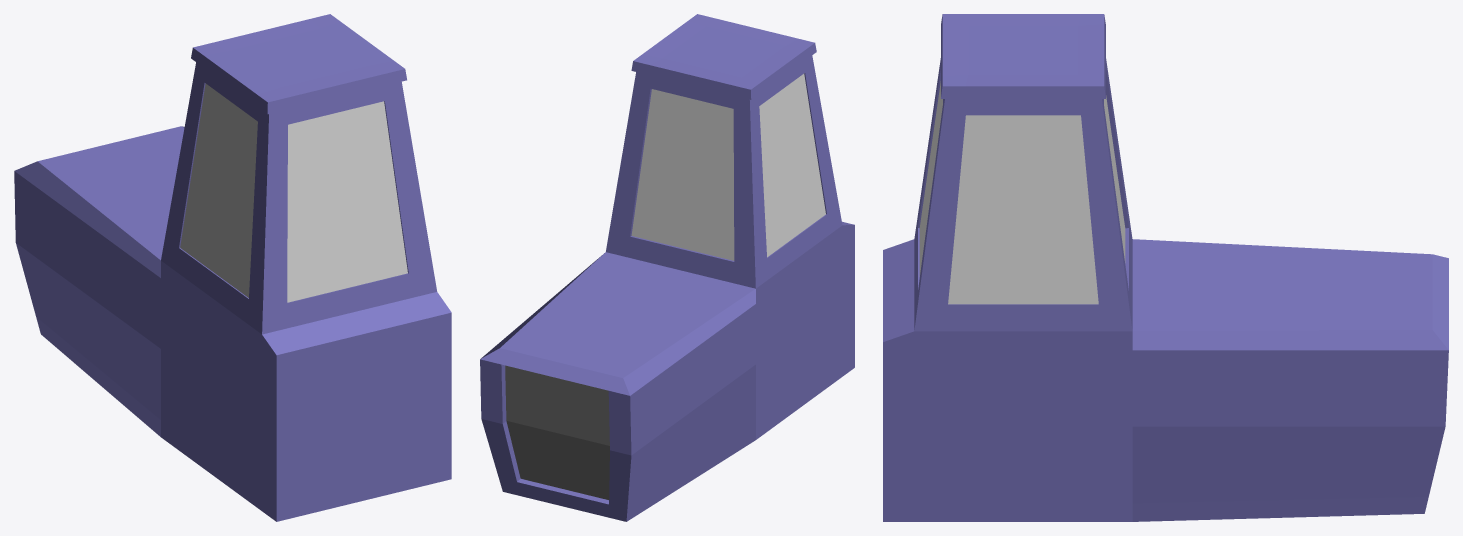
The model's file is Body.fbx.
3 views of the same model, side by side, from view 1: azimuth 30°, elevation 25°; view 2: azimuth 150°, elevation 25°; view 3: azimuth 270°, elevation 25° (orthographic). The views are drawn at different scales.
Visible parts, largest first — view 1: Body; view 2: Body; view 3: Body.
Part boxes in pixels (box(x1,y1,x2,y2)): Body: box(14, 14, 451, 521); Body: box(480, 14, 854, 521); Body: box(883, 14, 1448, 521).
Size of the model in its own units: 2 by 4.31 by 5.19.
